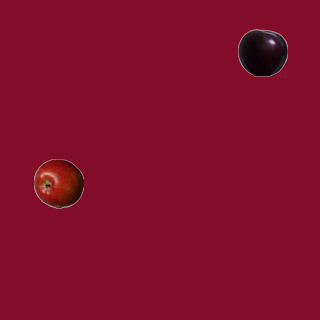Apple Braeburn: (33, 158, 83, 208)
Cherry Wax Black: (237, 27, 287, 77)
